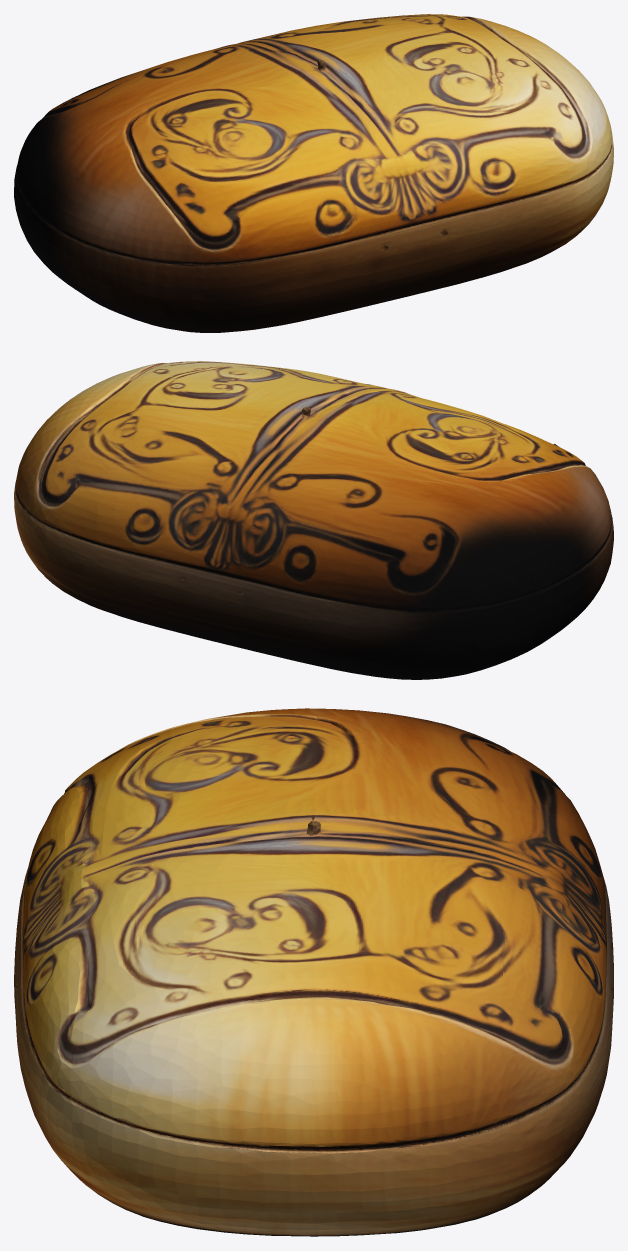
The model's file is wooden-bath-brush-vintage.jpeg.glb.
3 renders of one model, top to bottom at view 1: azimuth 30°, elevation 25°; view 2: azimuth 150°, elevation 25°; view 3: azimuth 270°, elevation 25°, orthographic. The views are drawn at different scales.
Parts seen in each view (by area): view 1: world; view 2: world; view 3: world.
Part boxes in pixels (x1=…): world: x1=14, y1=14, x2=613, y2=332; world: x1=14, y1=361, x2=613, y2=679; world: x1=14, y1=708, x2=613, y2=1236.
Size of the model in its own units: 0.9967 by 0.361 by 0.6592.
1 material, 1 textured.
